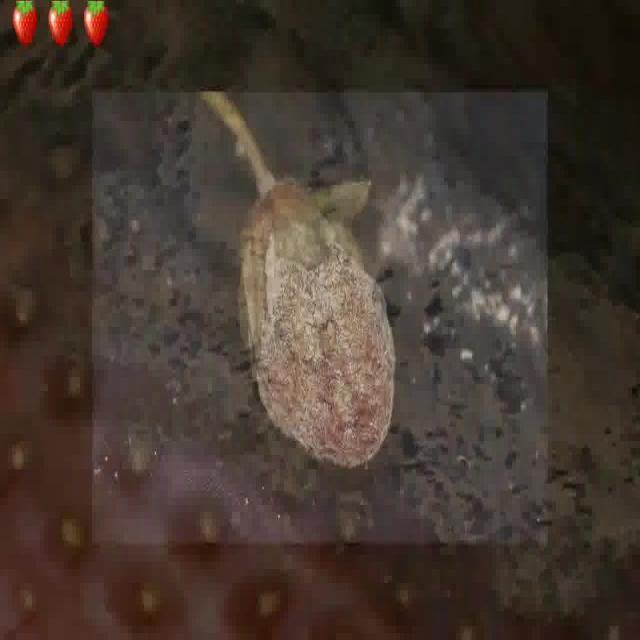Moho gris: (213, 134, 422, 484)
